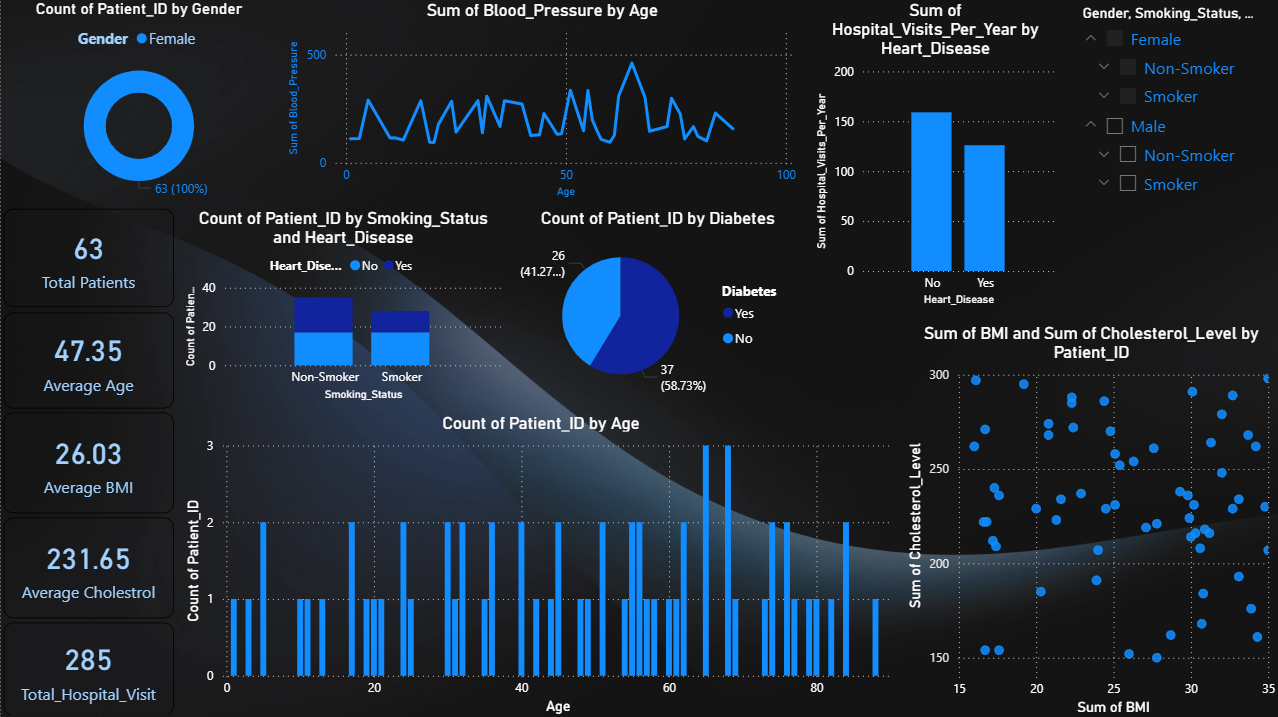

The dashboard page shown, as its layout file describes it:
{"tool":"powerbi","page":{"name":"Page 2","canvas":[1280,720],"ordinal":0},"visuals":[{"type":"card","fields":{"Values":["healthcare_analytic.Total Patients"]},"box":[2.7,209,170.4,98.3],"z":0},{"type":"card","fields":{"Values":["healthcare_analytic.Average Age"]},"box":[2.7,312.2,170.4,95.8],"z":1},{"type":"card","fields":{"Values":["healthcare_analytic.Average BMI"]},"box":[2.7,413,170.4,100.8],"z":2},{"type":"card","fields":{"Values":["healthcare_analytic.Average Cholestrol"]},"box":[2.7,517.5,170.4,100.8],"z":3},{"type":"card","fields":{"Values":["healthcare_analytic.Total_Hospital_Visit"]},"box":[2.7,622,170.4,93.3],"z":4},{"type":"donutChart","fields":{"Category":["healthcare_analytic.Gender"],"Y":["CountNonNull(healthcare_analytic.Patient_ID)"]},"box":[0,0,276.2,202.8],"z":5},{"type":"clusteredColumnChart","fields":{"Category":["healthcare_analytic.Age"],"Y":["CountNonNull(healthcare_analytic.Patient_ID)"]},"box":[179.1,413,722.7,307.3],"z":6},{"type":"columnChart","fields":{"Category":["healthcare_analytic.Smoking_Status"],"Y":["CountNonNull(healthcare_analytic.Patient_ID)"],"Series":["healthcare_analytic.Heart_Disease"]},"box":[179.1,207.7,327.2,197.8],"z":7},{"type":"pieChart","fields":{"Category":["healthcare_analytic.Diabetes"],"Y":["CountNonNull(healthcare_analytic.Patient_ID)"]},"box":[513.8,207.7,286.1,197.8],"z":8},{"type":"lineChart","fields":{"Category":["healthcare_analytic.Age"],"Y":["Sum(healthcare_analytic.Blood_Pressure)"]},"box":[282.4,0,517.5,202.8],"z":9},{"type":"clusteredColumnChart","fields":{"Category":["healthcare_analytic.Heart_Disease"],"Y":["Sum(healthcare_analytic.Hospital_Visits_Per_Year)"]},"box":[809.8,0,248.8,311],"z":10},{"type":"slicer","fields":{"Values":["healthcare_analytic.Gender","healthcare_analytic.Smoking_Status","healthcare_analytic.Diabetes","healthcare_analytic.Heart_Disease","healthcare_analytic.Age"]},"box":[1068.6,0,211.5,283.6],"z":11},{"type":"scatterChart","fields":{"X":["Sum(healthcare_analytic.BMI)"],"Y":["Sum(healthcare_analytic.Cholesterol_Level)"],"Category":["healthcare_analytic.Patient_ID"]},"box":[901.9,322.2,378.2,398.1],"z":12}]}

Visuals, with their boxes in screenshot pixels (x1, y1, x2, y2), scaled from the page's 1280x720 canvas onto the 1278x717 screenshot:
card - healthcare_analytic.Total Patients: (left=3, top=208, right=173, bottom=306)
card - healthcare_analytic.Average Age: (left=3, top=311, right=173, bottom=406)
card - healthcare_analytic.Average BMI: (left=3, top=411, right=173, bottom=512)
card - healthcare_analytic.Average Cholestrol: (left=3, top=515, right=173, bottom=616)
card - healthcare_analytic.Total_Hospital_Visit: (left=3, top=619, right=173, bottom=712)
donutChart - healthcare_analytic.Gender x CountNonNull(healthcare_analytic.Patient_ID): (left=0, top=0, right=276, bottom=202)
clusteredColumnChart - healthcare_analytic.Age x CountNonNull(healthcare_analytic.Patient_ID): (left=179, top=411, right=900, bottom=716)
columnChart - healthcare_analytic.Smoking_Status x CountNonNull(healthcare_analytic.Patient_ID): (left=179, top=207, right=506, bottom=404)
pieChart - healthcare_analytic.Diabetes x CountNonNull(healthcare_analytic.Patient_ID): (left=513, top=207, right=799, bottom=404)
lineChart - healthcare_analytic.Age x Sum(healthcare_analytic.Blood_Pressure): (left=282, top=0, right=799, bottom=202)
clusteredColumnChart - healthcare_analytic.Heart_Disease x Sum(healthcare_analytic.Hospital_Visits_Per_Year): (left=809, top=0, right=1057, bottom=310)
slicer - healthcare_analytic.Gender x healthcare_analytic.Smoking_Status: (left=1067, top=0, right=1277, bottom=282)
scatterChart - Sum(healthcare_analytic.BMI) x Sum(healthcare_analytic.Cholesterol_Level): (left=900, top=321, right=1277, bottom=716)
